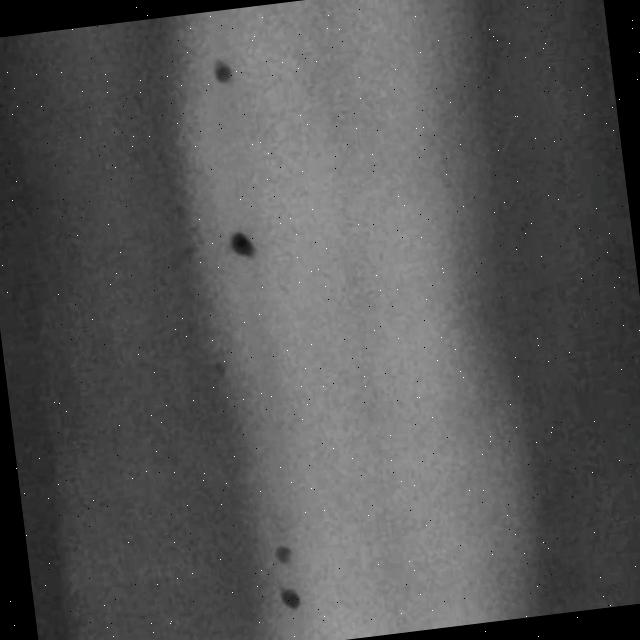Pore: (216, 212, 274, 278), (265, 576, 308, 626), (202, 48, 244, 98), (268, 534, 302, 572)
